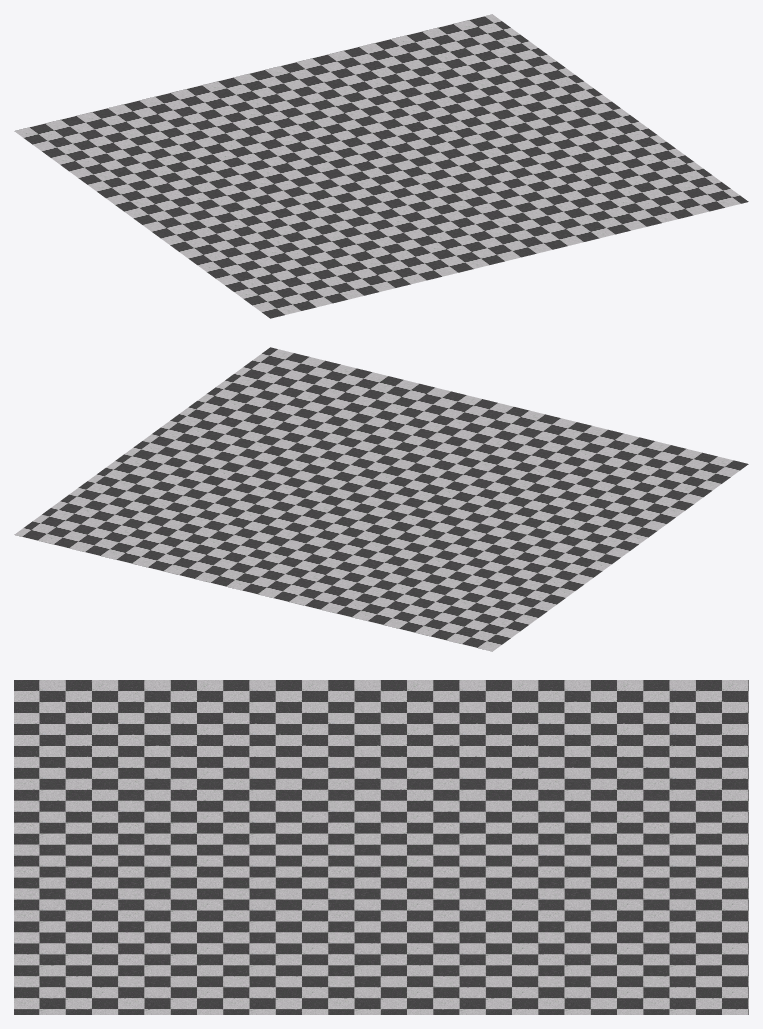
File: piso.obj
3 renders of one model, top to bottom at view 1: azimuth 30°, elevation 25°; view 2: azimuth 150°, elevation 25°; view 3: azimuth 270°, elevation 25°, orthographic. The views are drawn at different scales.
Visible parts, largest first — view 1: pPlane1; view 2: pPlane1; view 3: pPlane1.
Boxes of the visible parts, x1,y1,x2,y2 form: pPlane1: (14, 14, 748, 318); pPlane1: (14, 347, 748, 651); pPlane1: (14, 680, 748, 1014).
Size of the model in its own units: 16.84 by 0 by 15.62.
Materials: 1 (1 with a texture image).
